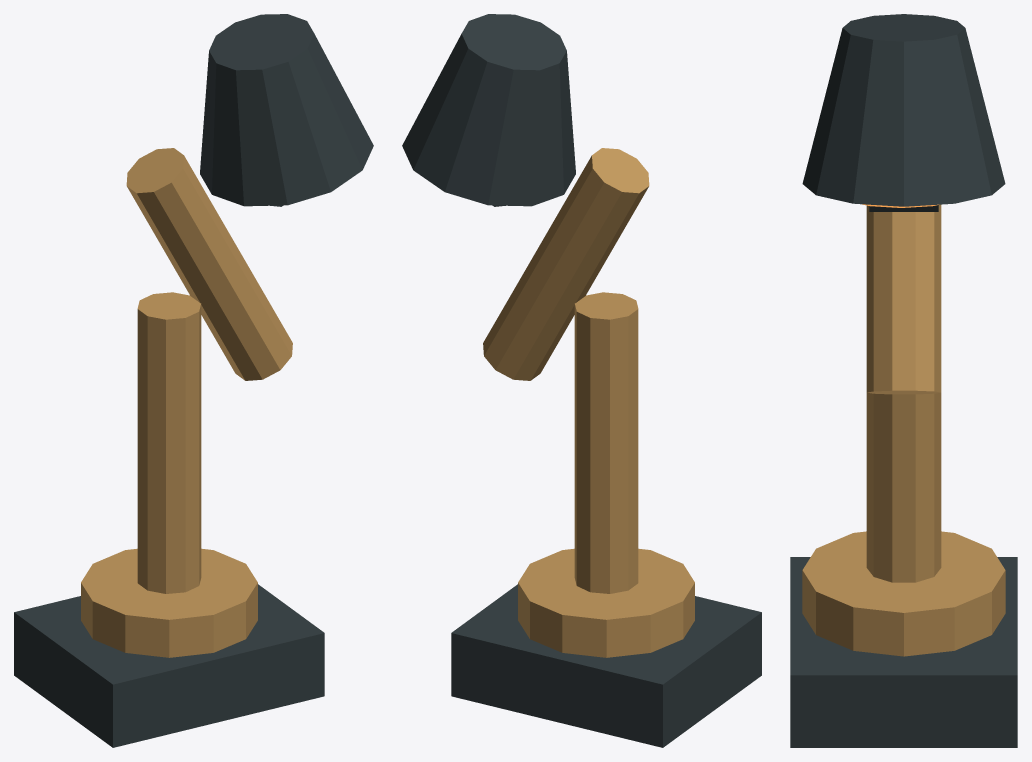
The model's file is focused_work_lamp.glb.
The picture shows the model from 3 angles, left to right: view 1: azimuth 30°, elevation 25°; view 2: azimuth 150°, elevation 25°; view 3: azimuth 270°, elevation 25°; orthographic projection. The views are drawn at different scales.
Parts seen in each view (by area): view 1: lamp_base, lamp_shade, lamp_stem, lamp_arm, lamp_base_weight; view 2: lamp_base, lamp_shade, lamp_stem, lamp_arm, lamp_base_weight; view 3: lamp_shade, lamp_base, lamp_base_weight, lamp_stem, lamp_arm.
Part boxes in pixels (x1=…): lamp_base: x1=14, y1=584, x2=324, y2=747; lamp_shade: x1=200, y1=14, x2=373, y2=206; lamp_stem: x1=137, y1=292, x2=201, y2=593; lamp_arm: x1=126, y1=148, x2=292, y2=380; lamp_base_weight: x1=81, y1=548, x2=257, y2=657; lamp_base: x1=451, y1=584, x2=761, y2=747; lamp_shade: x1=402, y1=14, x2=575, y2=206; lamp_stem: x1=574, y1=292, x2=638, y2=593; lamp_arm: x1=483, y1=148, x2=649, y2=380; lamp_base_weight: x1=518, y1=548, x2=694, y2=657; lamp_shade: x1=802, y1=14, x2=1005, y2=206; lamp_base: x1=790, y1=557, x2=1017, y2=747; lamp_base_weight: x1=802, y1=531, x2=1005, y2=656; lamp_stem: x1=866, y1=392, x2=941, y2=582; lamp_arm: x1=866, y1=204, x2=941, y2=394.
Size of the model in its own units: 0.1479 by 0.2991 by 0.085.
